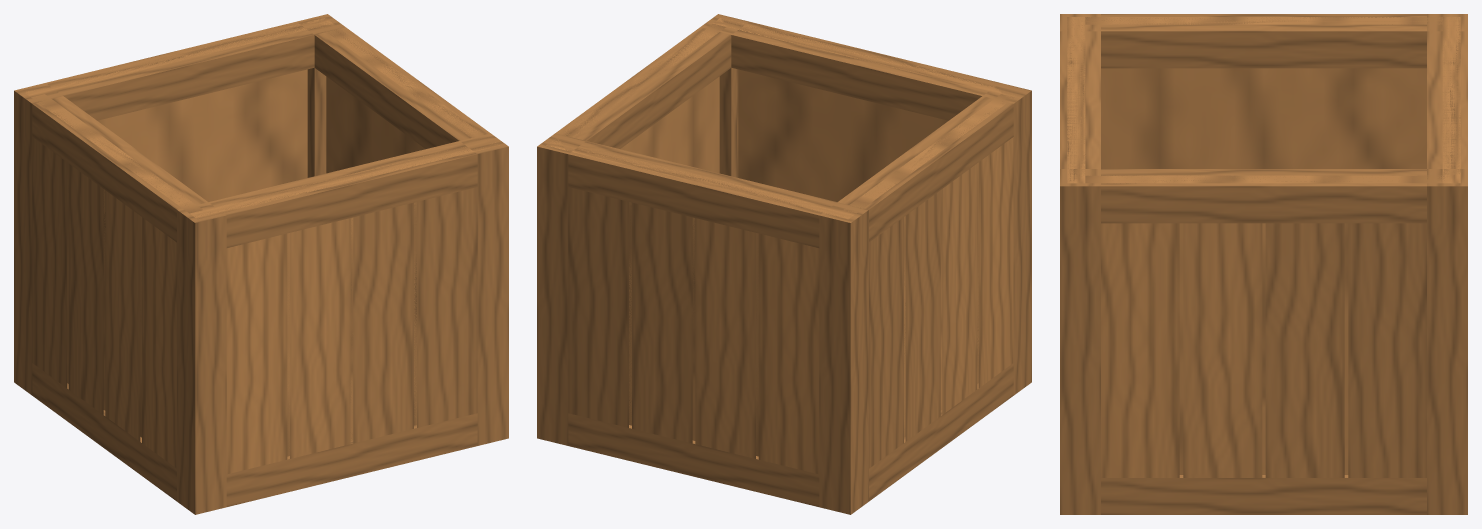
The model's file is FMS_Crate_Framed_Open.fbx.
3 renders of one model, left to right at view 1: azimuth 30°, elevation 25°; view 2: azimuth 150°, elevation 25°; view 3: azimuth 270°, elevation 25°, orthographic. The views are drawn at different scales.
Parts seen in each view (by area): view 1: item_stalls_crate_framed_open; view 2: item_stalls_crate_framed_open; view 3: item_stalls_crate_framed_open.
Boxes of the visible parts, x1,y1,x2,y2 form: item_stalls_crate_framed_open: [14, 14, 508, 514]; item_stalls_crate_framed_open: [537, 14, 1031, 514]; item_stalls_crate_framed_open: [1060, 14, 1467, 514].
Size of the model in its own units: 0.45 by 0.4 by 0.45.
